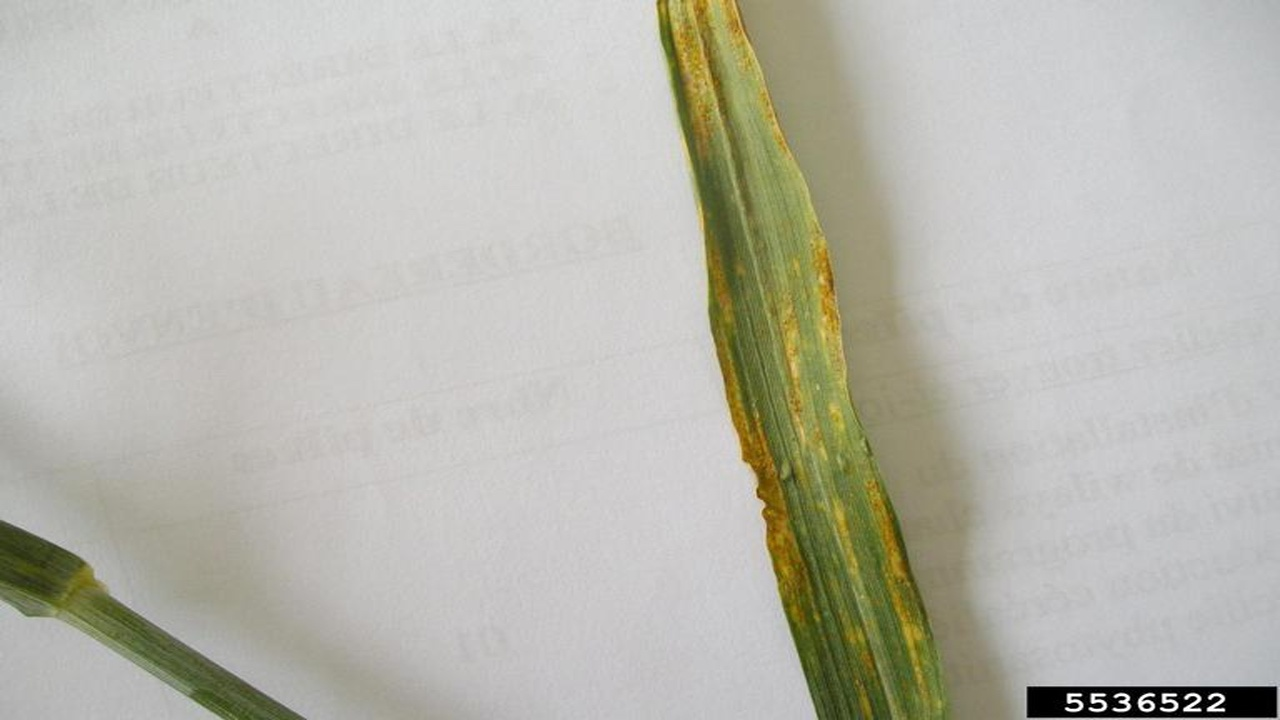stripe_rust: (657, 1, 946, 720)
